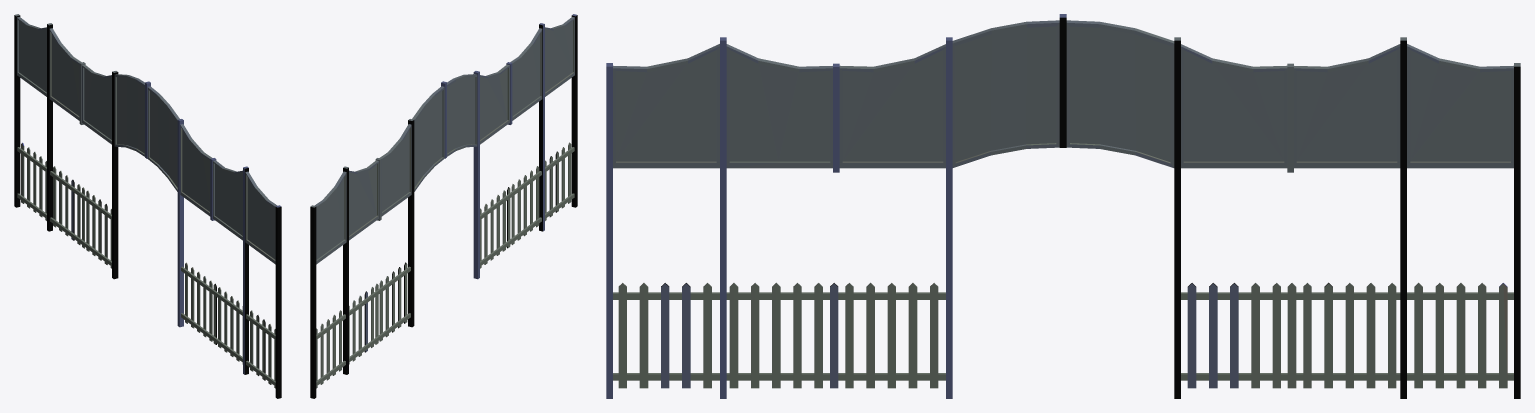
Rendered from carnival_entrance.fbx.
3 views of the same model, side by side, from view 1: azimuth 30°, elevation 25°; view 2: azimuth 150°, elevation 25°; view 3: azimuth 270°, elevation 25° (orthographic). The views are drawn at different scales.
Visible parts, largest first — view 1: Mesh (2), Mesh, Cube; view 2: Mesh (2), Mesh, Cube; view 3: Mesh (2), Mesh, Cube.
Part boxes in pixels (left/top/right/bottom): Mesh (2): left=14, top=14, right=277, bottom=279; Mesh: left=17, top=142, right=275, bottom=388; Cube: left=145, top=81, right=281, bottom=398; Mesh (2): left=310, top=17, right=574, bottom=398; Mesh: left=316, top=142, right=574, bottom=388; Cube: left=441, top=14, right=577, bottom=279; Mesh (2): left=613, top=20, right=1520, bottom=398; Mesh: left=613, top=282, right=1513, bottom=388; Cube: left=606, top=14, right=1066, bottom=398.
Bounding box in the file's own units: 6.09 × 309 × 671.
